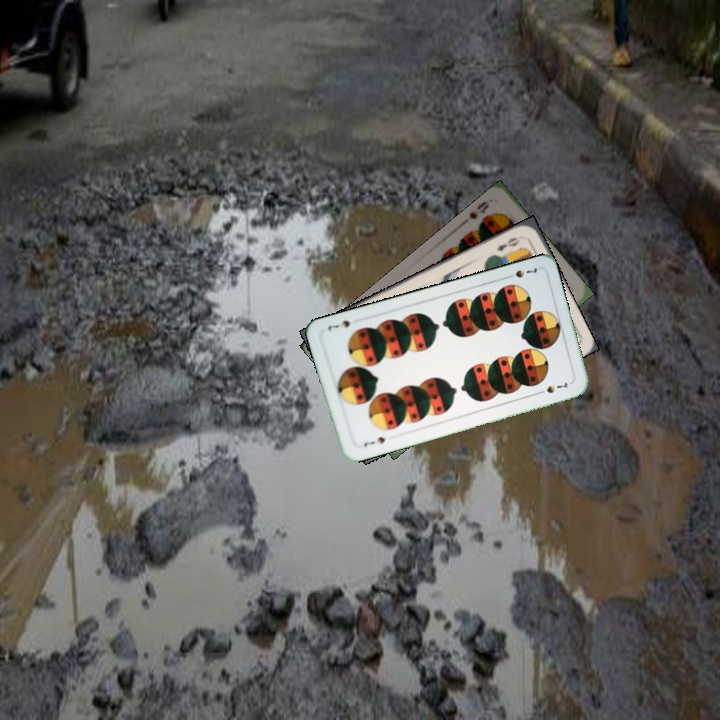EO: (493, 233, 522, 254)
S7: (501, 263, 540, 281), (360, 433, 387, 449)
S8: (465, 197, 491, 222)
